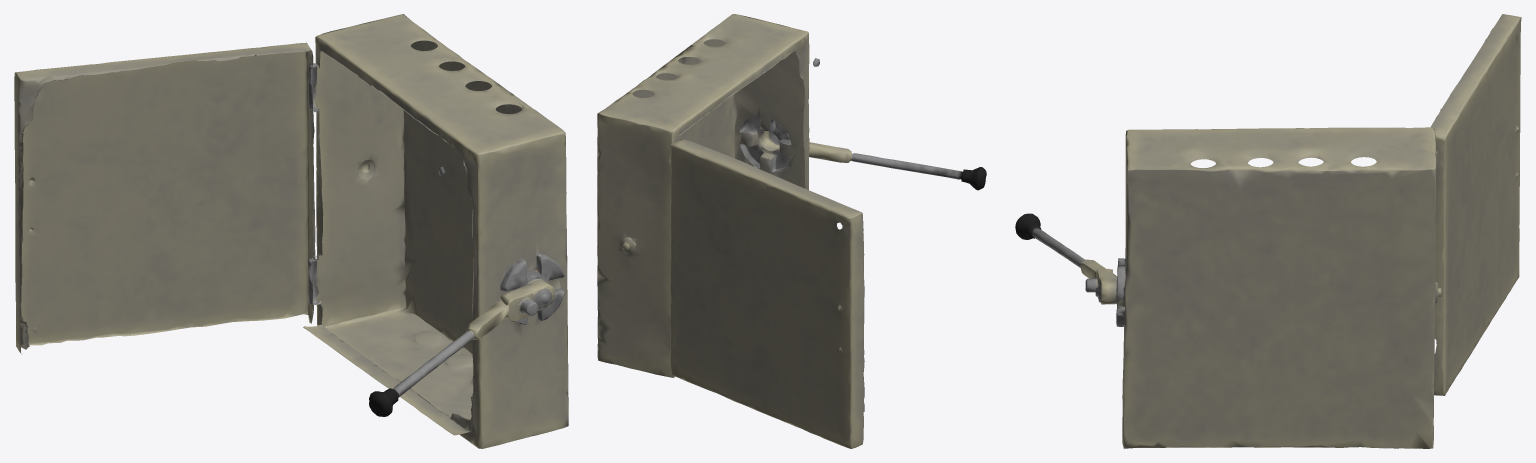
Rendered from Electrical_consturction_wirebox.fbx.
The picture shows the model from 3 angles, left to right: view 1: azimuth 30°, elevation 25°; view 2: azimuth 150°, elevation 25°; view 3: azimuth 270°, elevation 25°; orthographic projection. The views are drawn at different scales.
Parts seen in each view (by area): view 1: polySurface3; view 2: polySurface3; view 3: polySurface3.
Boxes of the visible parts, x1,y1,x2,y2 form: polySurface3: (14,14,568,448); polySurface3: (597,14,986,448); polySurface3: (1015,14,1521,448).
Size of the model in its own units: 5.73 by 4.65 by 7.51.
